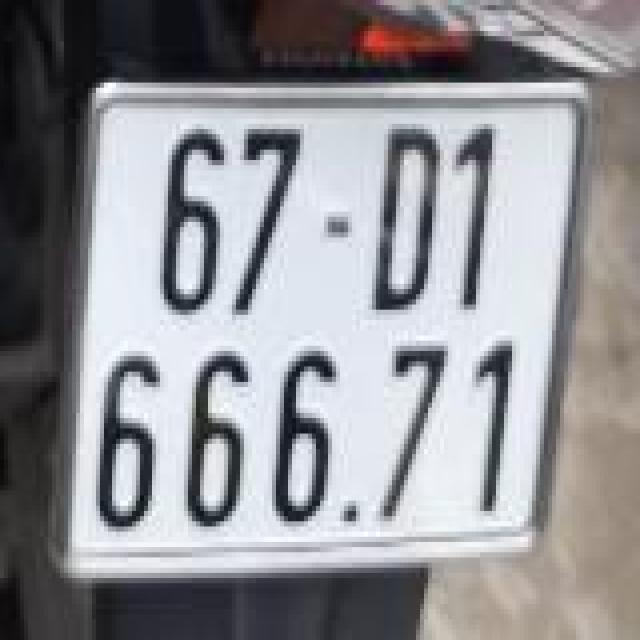1: (468, 330, 524, 526), (454, 116, 506, 323)
6: (142, 121, 234, 323), (86, 333, 166, 544), (262, 328, 342, 534), (178, 338, 254, 534)
7: (374, 323, 470, 534), (232, 114, 316, 320)
D: (360, 101, 444, 333)
